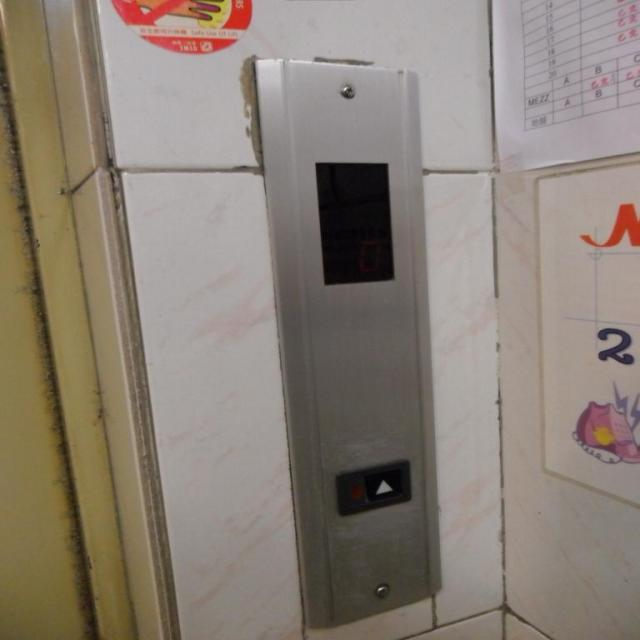led: (311, 159, 397, 289)
up: (329, 456, 416, 522)
